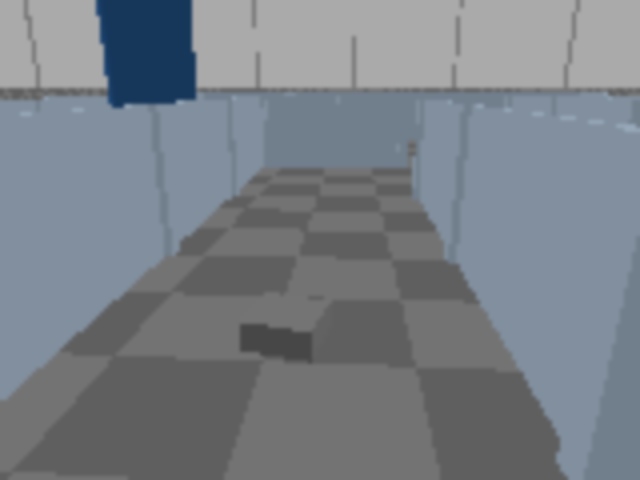obstacle: (238, 292, 331, 363)
